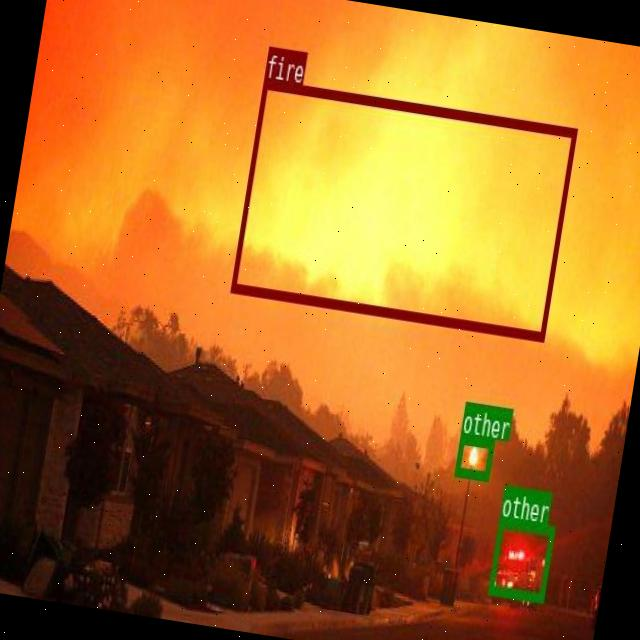fire: (231, 80, 577, 340)
